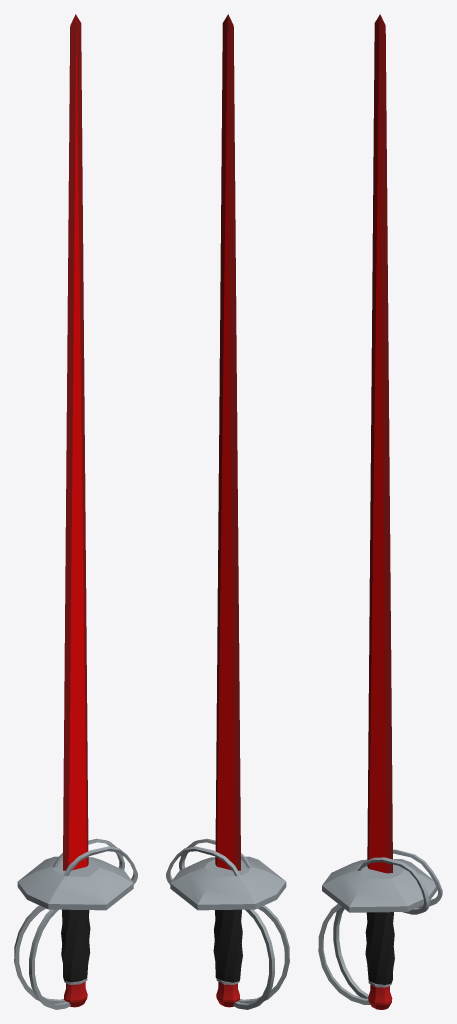
The model's file is SM_Sword13_Rapier_5FantasyRed.fbx.
3 renders of one model, left to right at view 1: azimuth 30°, elevation 25°; view 2: azimuth 150°, elevation 25°; view 3: azimuth 330°, elevation 25°, orthographic.
Visible parts, largest first — view 1: Cube.357, Cylinder.458, Cube.358, Cylinder.460, Sphere.136; view 2: Cube.357, Cylinder.458, Cube.358, Cylinder.460, Sphere.136; view 3: Cube.357, Cylinder.458, Cube.358, Cylinder.460, Sphere.136.
Boxes of the visible parts, x1,y1,x2,y2 form: Cube.357: (63,14,88,870); Cylinder.458: (17,856,133,910); Cube.358: (14,838,137,1009); Cylinder.460: (61,909,90,982); Sphere.136: (64,978,87,1007); Cube.357: (215,14,240,870); Cylinder.458: (170,856,286,910); Cube.358: (166,838,289,1009); Cylinder.460: (213,909,242,982); Sphere.136: (216,978,239,1007); Cube.357: (367,14,392,873); Cylinder.458: (322,859,437,912); Cube.358: (318,849,442,1004); Cylinder.460: (365,912,394,984); Sphere.136: (368,981,392,1009).
Bounding box in the file's own units: 0.1179 × 1.03 × 0.1152.
